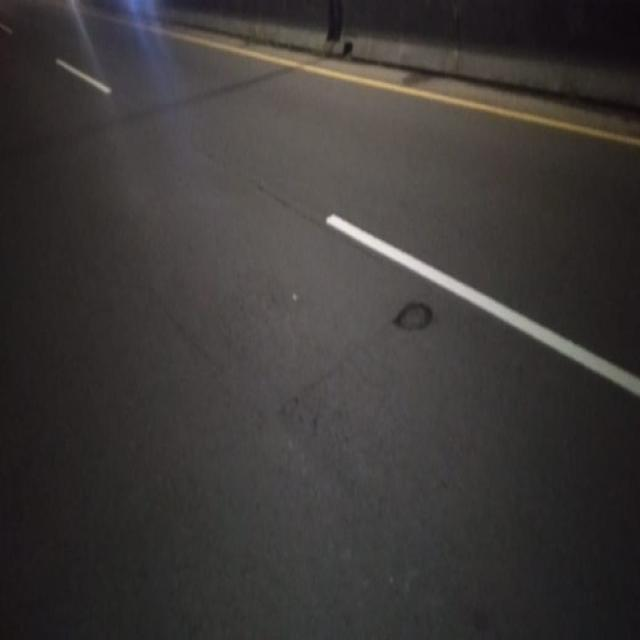Buraco: (388, 299, 438, 333)
